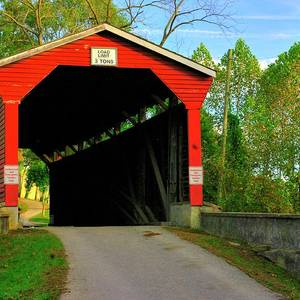bridge: (1, 22, 217, 207)
